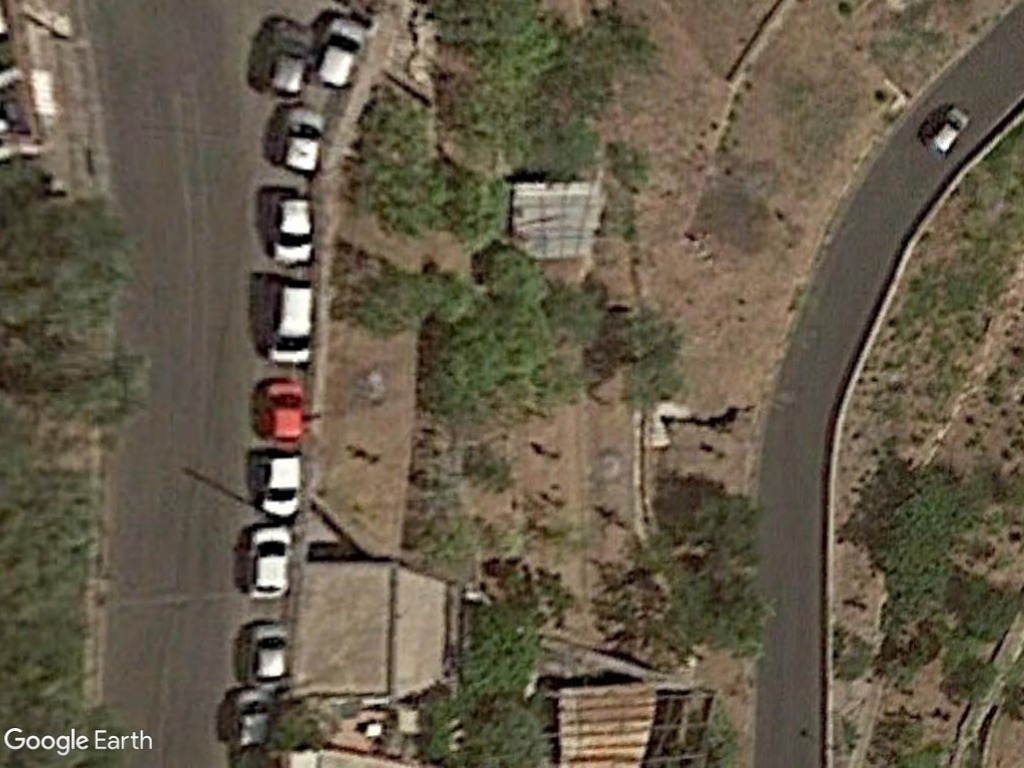car: (244, 523, 297, 605), (274, 102, 327, 179), (243, 621, 295, 698), (265, 191, 315, 271), (254, 452, 307, 520)
van: (265, 281, 317, 368), (312, 17, 369, 94)
